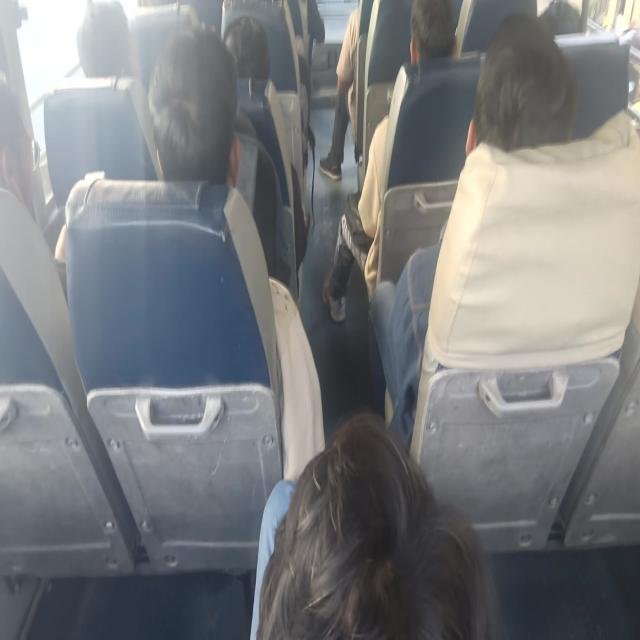person: (368, 11, 578, 450), (147, 21, 326, 484), (250, 411, 500, 638), (321, 0, 458, 322), (147, 23, 298, 296), (222, 14, 309, 274), (319, 0, 412, 181), (147, 23, 241, 186), (0, 80, 66, 260), (318, 3, 361, 181)
